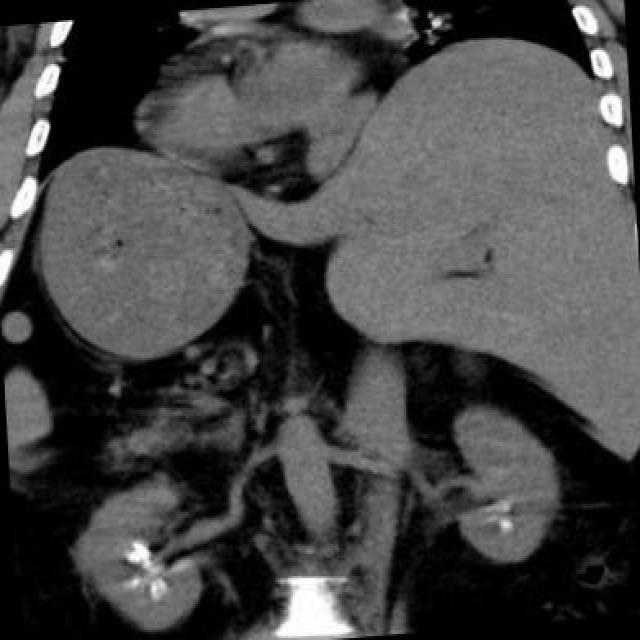Tas_Var: (124, 540, 153, 564), (490, 515, 522, 535), (483, 495, 512, 517), (143, 578, 168, 602), (120, 551, 142, 571), (122, 575, 143, 593)
